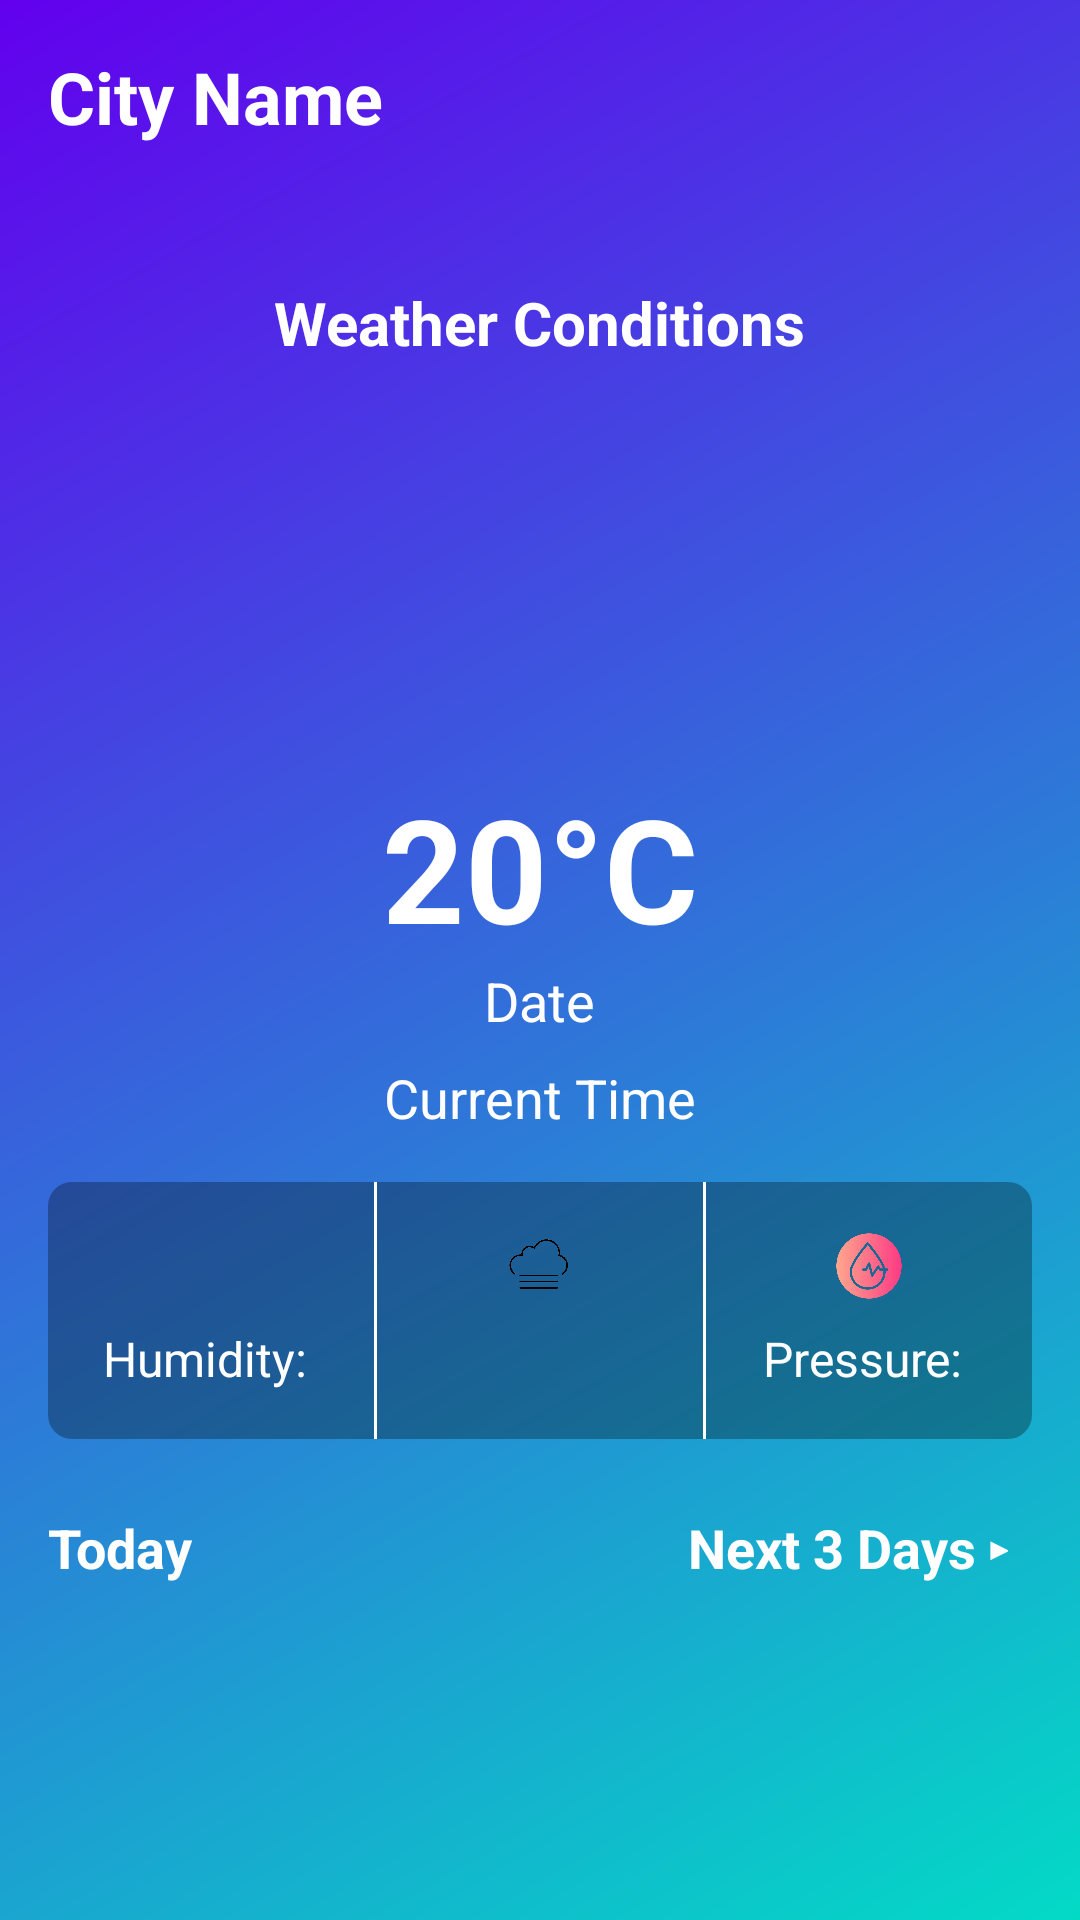

Where to tap for icons on this 1080w x 1920h app screen, as [x,y]:
visibility: [538,1264]
